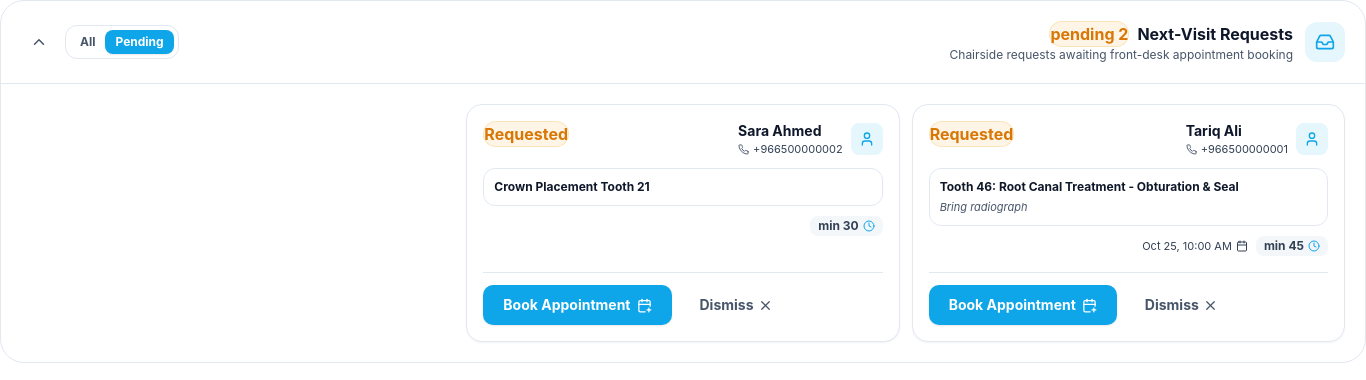
Test: NextVisitQueue Component › filters between Pending and All requests
Check: the element with test id "next-visit-request-card-101" is shown, box [912,104,1345,342]
Check: the element with test id "next-visit-request-card-102" is shown, box [466,104,900,342]
Switch filter to 'All'
Click the button with test id "nvr-filter-all". click: (88, 42)
box: [70,30,106,54]
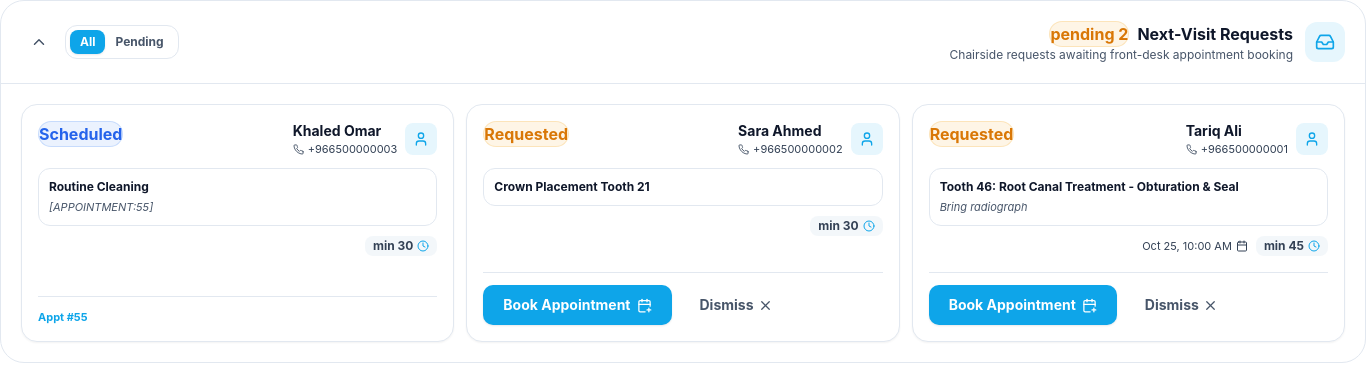
Check: the element with test id "next-visit-request-card-103" is shown, box [21,104,454,342]
Check: the text "Appt #55" is shown, box [38,308,88,325]
